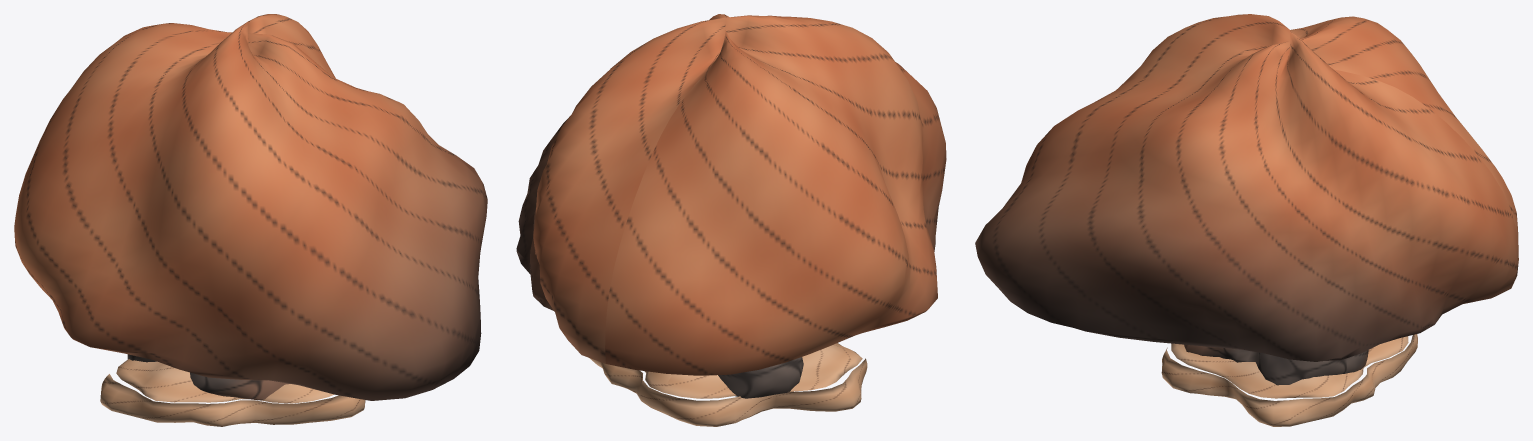
Rendered from mars-samples.glb.
The picture shows the model from 3 angles, left to right: view 1: azimuth 30°, elevation 25°; view 2: azimuth 150°, elevation 25°; view 3: azimuth 270°, elevation 25°; orthographic projection. The views are drawn at different scales.
Parts seen in each view (by area): view 1: Yogi, ScoobyDoo, BarnacleBill; view 2: Yogi, ScoobyDoo, BarnacleBill; view 3: Yogi, ScoobyDoo, BarnacleBill.
Boxes of the visible parts, left/top/right/bottom form: Yogi: left=14, top=14, right=487, bottom=400; ScoobyDoo: left=100, top=359, right=365, bottom=426; BarnacleBill: left=127, top=354, right=289, bottom=400; Yogi: left=516, top=14, right=946, bottom=375; ScoobyDoo: left=589, top=343, right=867, bottom=426; BarnacleBill: left=718, top=357, right=803, bottom=398; Yogi: left=975, top=14, right=1518, bottom=361; ScoobyDoo: left=1161, top=334, right=1417, bottom=426; BarnacleBill: left=1184, top=344, right=1368, bottom=385.
Bounding box in the file's own units: 0.9573 × 0.8175 × 1.2.
1 material, 1 textured.
